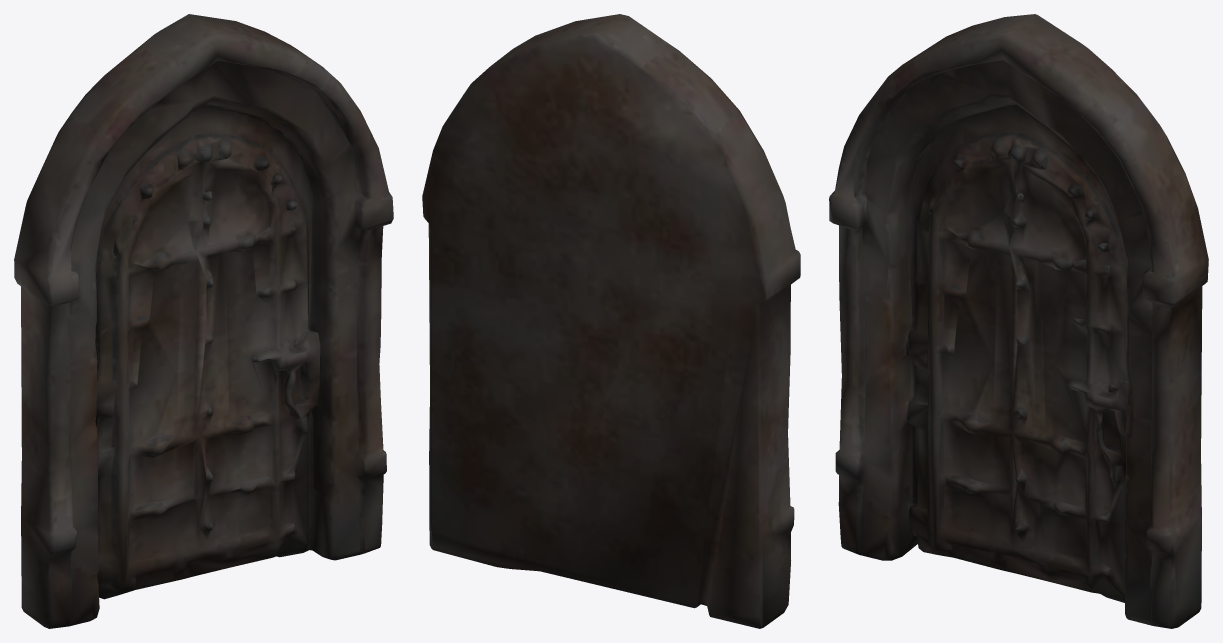
File: rustic-iron-castle-door-v001.glb
3 renders of one model, left to right at view 1: azimuth 30°, elevation 25°; view 2: azimuth 150°, elevation 25°; view 3: azimuth 330°, elevation 25°, orthographic.
Visible parts, largest first — view 1: rustic-iron-castle-door; view 2: rustic-iron-castle-door; view 3: rustic-iron-castle-door.
Part boxes in pixels (x1,y1,x2,y2): rustic-iron-castle-door: [14, 14, 393, 628]; rustic-iron-castle-door: [422, 14, 800, 628]; rustic-iron-castle-door: [829, 14, 1208, 628].
Bounding box in the file's own units: 1.5 × 2.29 × 0.2658.
Materials: 1 (1 with a texture image).
